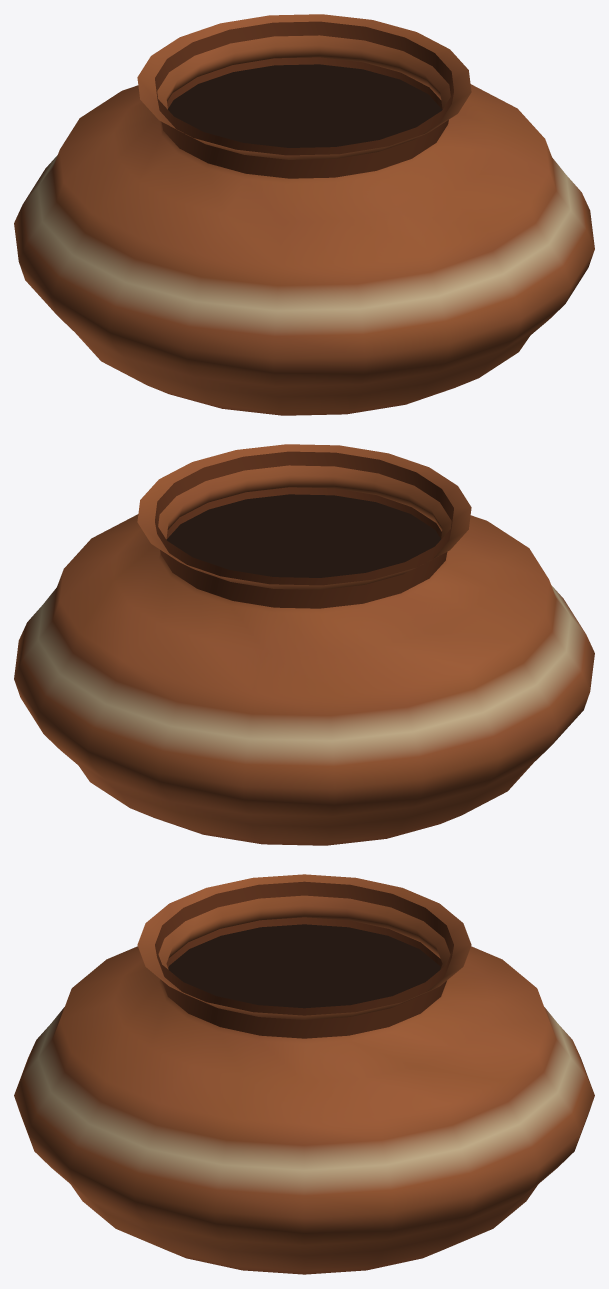
Rendered from pot-a.glb.
The picture shows the model from 3 angles, top to bottom: view 1: azimuth 30°, elevation 25°; view 2: azimuth 150°, elevation 25°; view 3: azimuth 270°, elevation 25°; orthographic projection.
Visible parts, largest first — view 1: pot-a; view 2: pot-a; view 3: pot-a.
Part boxes in pixels (<box>): pot-a: <box>14,14,594,415</box>; pot-a: <box>14,444,594,845</box>; pot-a: <box>14,874,594,1274</box>.
Size of the model in its own units: 0.3998 by 0.2 by 0.3998.
